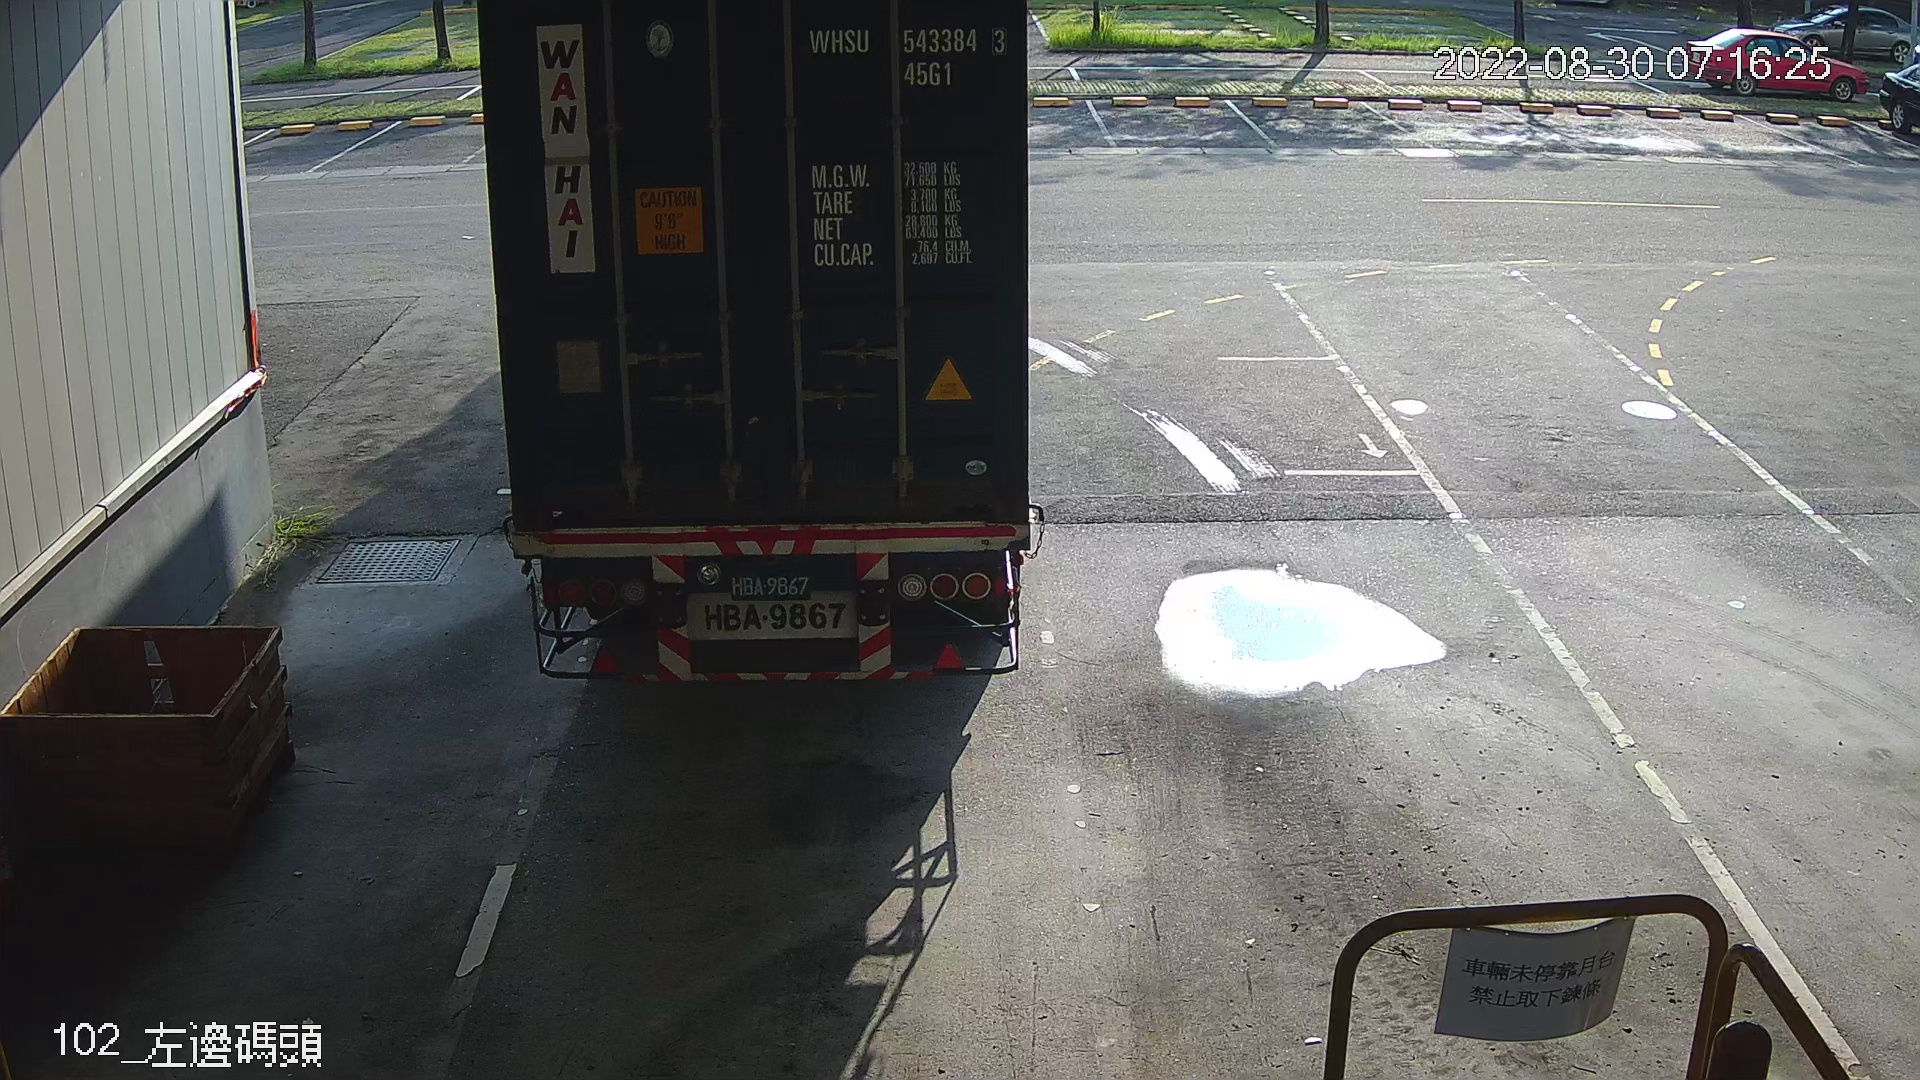container: (803, 17, 1015, 98)
